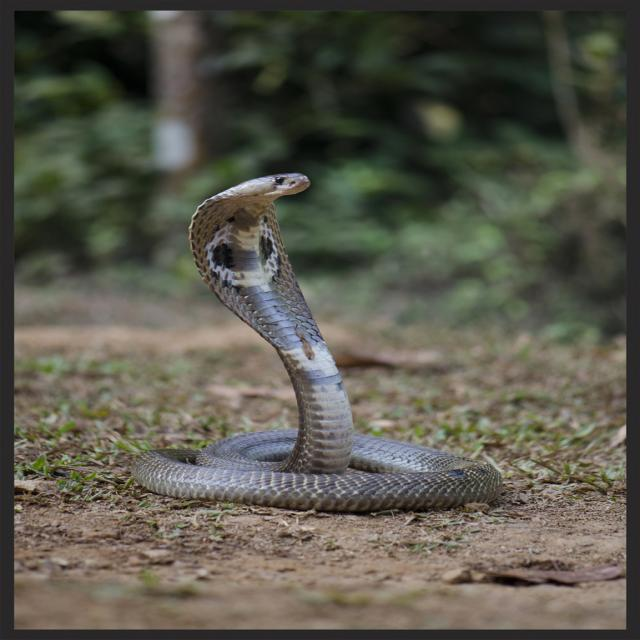Snake: (129, 171, 503, 514)
